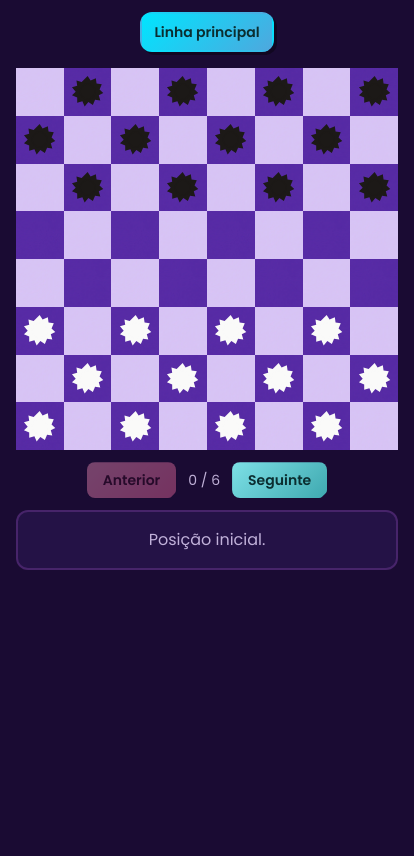
Test: OpeningStudy › switching lines resets to the initial position
Step 1. Click the button "Seguinte" → (280, 480), box [232,462,327,498]
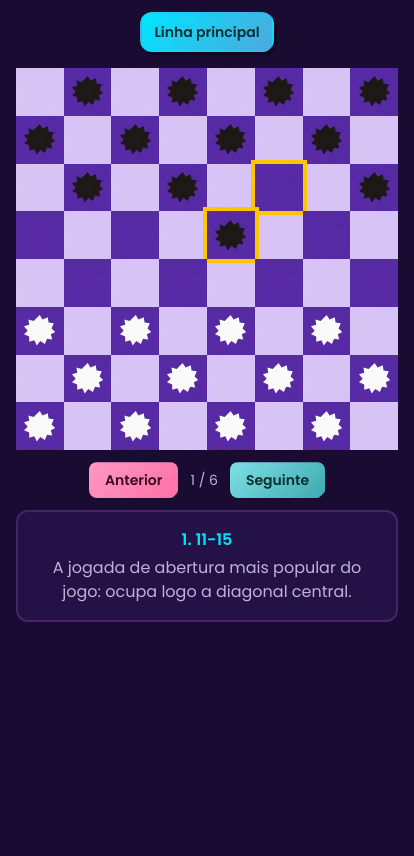
Step 2. Click the button "Seguinte" → (277, 480), box [230,462,325,498]
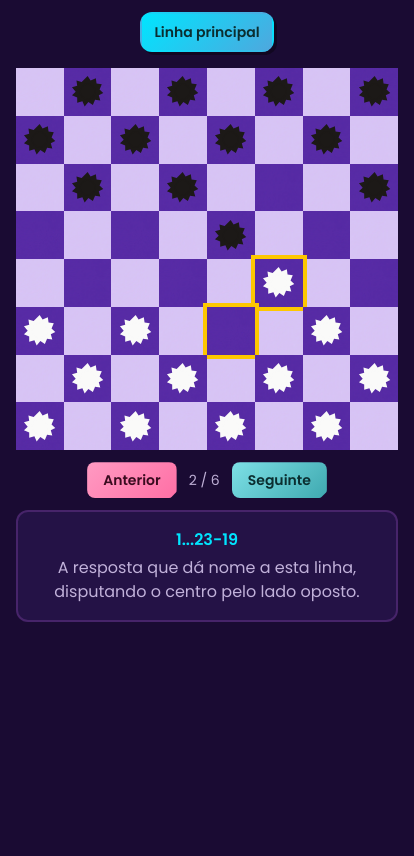
Expected: the text "2 / 6" is shown, [189,470,220,490]
Step 3. Click the tab "Linha principal" → (207, 32), box [140,12,274,52]
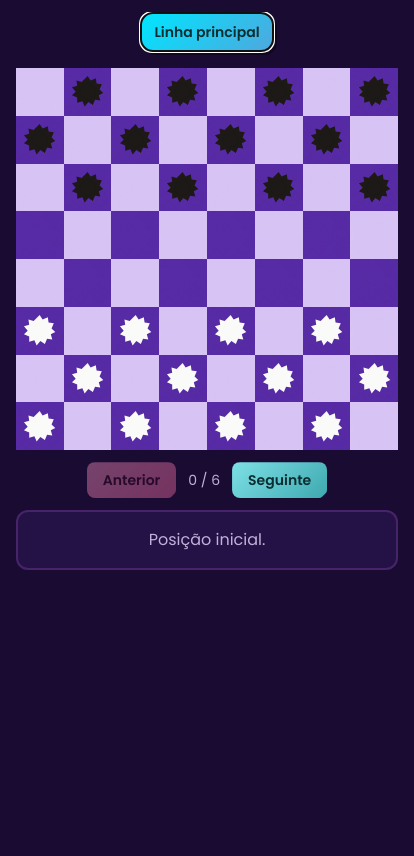
Expected: the text "0 / 6" is shown, [188,470,220,490]
